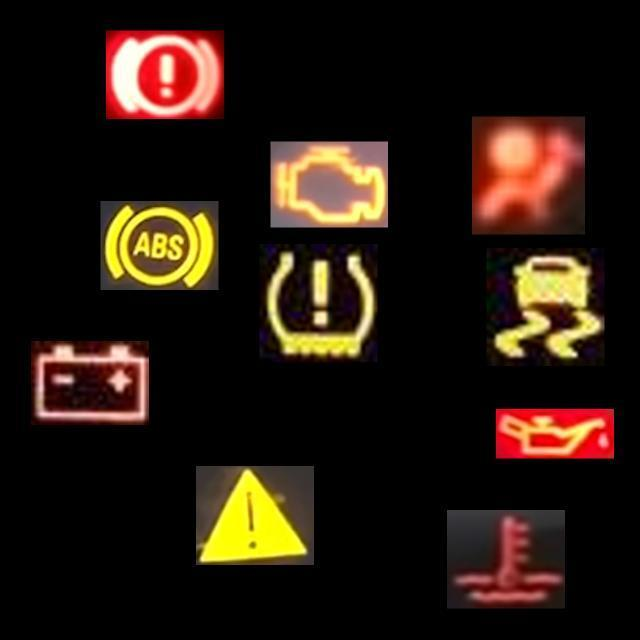Central Warning lamp: (196, 466, 314, 565)
Engine cooling system: (447, 509, 565, 608)
